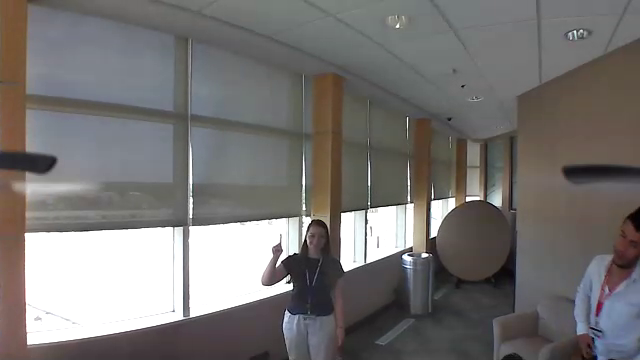up: (270, 230, 286, 259)
